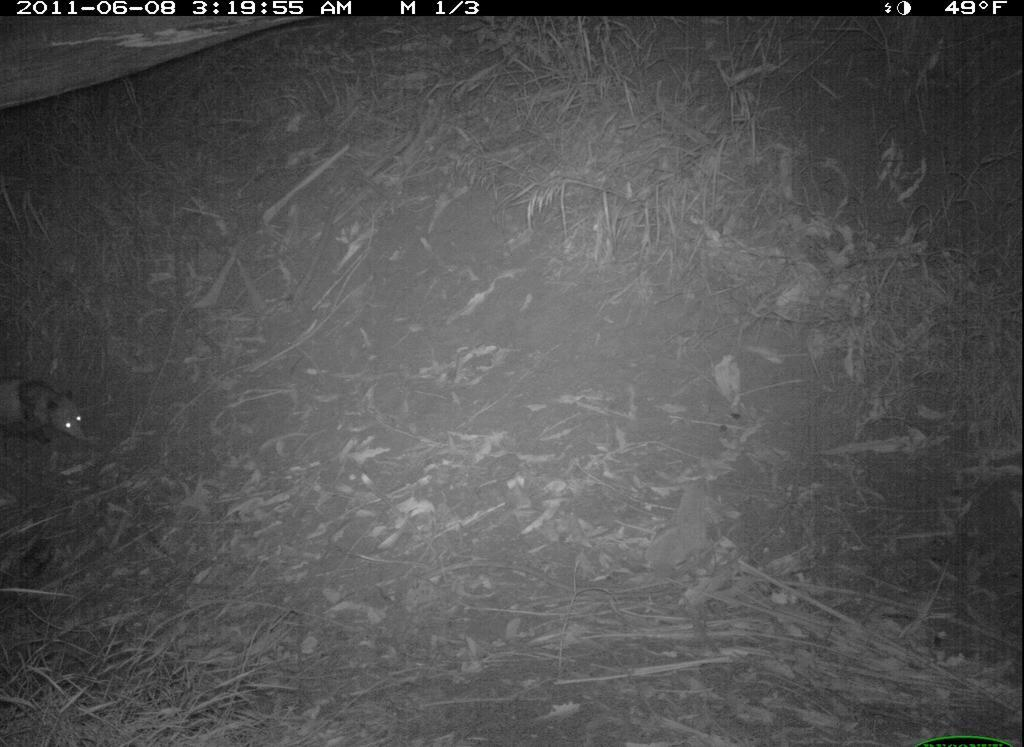opossum: (1, 355, 107, 459)
